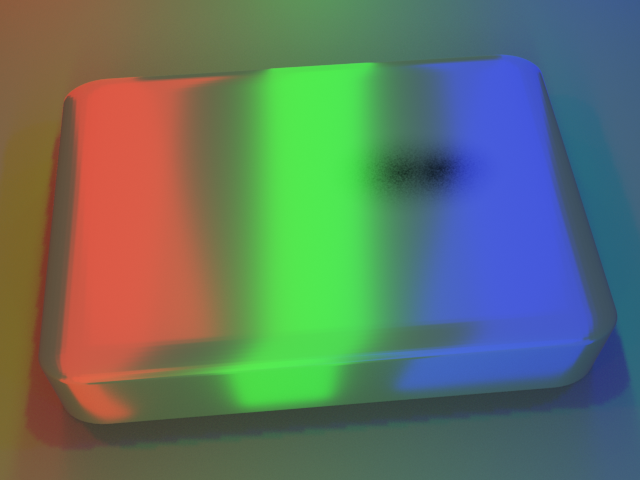stain: (327, 99, 562, 228)
